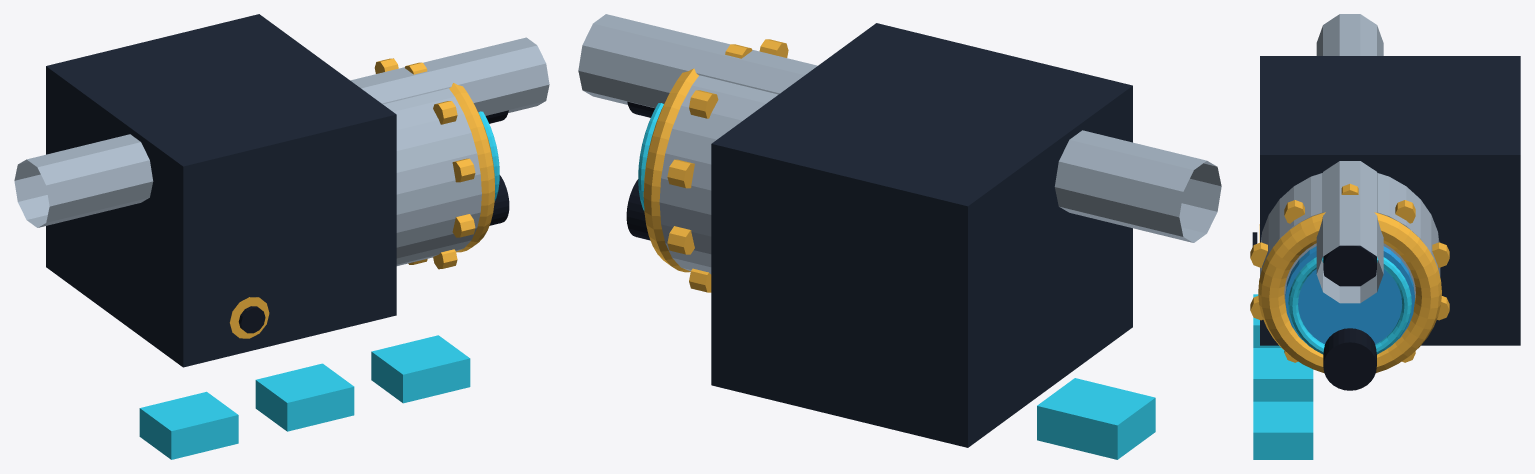
Rendered from 17_L85_StationApproachIlluminationRig.fbx.
3 views of the same model, side by side, from view 1: azimuth 30°, elevation 25°; view 2: azimuth 150°, elevation 25°; view 3: azimuth 270°, elevation 25° (orthographic). The views are drawn at different scales.
Parts seen in each view (by area): view 1: L85_StationApproachIlluminationRig_Part_0001, L85_StationApproachIlluminationRig, L85_StationApproachIlluminationRig_Part_0005, L85_StationApproachIlluminationRig_Part_0002, L85_StationApproachIlluminationRig_Part_0003, L85_StationApproachIlluminationRig_Part_0006, L85_StationApproachIlluminationRig_Part_0007, L85_StationApproachIlluminationRig_Part_0008; view 2: L85_StationApproachIlluminationRig_Part_0001, L85_StationApproachIlluminationRig, L85_StationApproachIlluminationRig_Part_0002, L85_StationApproachIlluminationRig_Part_0005, L85_StationApproachIlluminationRig_Part_0003, L85_StationApproachIlluminationRig_Part_0006; view 3: L85_StationApproachIlluminationRig_Part_0001, L85_StationApproachIlluminationRig_Part_0003, L85_StationApproachIlluminationRig_Part_0005, L85_StationApproachIlluminationRig, L85_StationApproachIlluminationRig_Part_0004, L85_StationApproachIlluminationRig_Part_0006, L85_StationApproachIlluminationRig_Part_0002.
Part boxes in pixels (x1,y1,x2,y2): L85_StationApproachIlluminationRig_Part_0001: [46, 14, 396, 367]; L85_StationApproachIlluminationRig: [14, 37, 549, 227]; L85_StationApproachIlluminationRig_Part_0005: [139, 111, 499, 459]; L85_StationApproachIlluminationRig_Part_0002: [383, 88, 481, 265]; L85_StationApproachIlluminationRig_Part_0003: [374, 58, 494, 269]; L85_StationApproachIlluminationRig_Part_0006: [485, 110, 509, 225]; L85_StationApproachIlluminationRig_Part_0007: [229, 297, 269, 338]; L85_StationApproachIlluminationRig_Part_0008: [238, 306, 265, 333]; L85_StationApproachIlluminationRig_Part_0001: [711, 23, 1132, 447]; L85_StationApproachIlluminationRig: [578, 14, 1221, 242]; L85_StationApproachIlluminationRig_Part_0002: [659, 75, 778, 274]; L85_StationApproachIlluminationRig_Part_0005: [638, 103, 1155, 459]; L85_StationApproachIlluminationRig_Part_0003: [643, 39, 788, 292]; L85_StationApproachIlluminationRig_Part_0006: [626, 101, 655, 240]; L85_StationApproachIlluminationRig_Part_0001: [1260, 56, 1520, 345]; L85_StationApproachIlluminationRig_Part_0003: [1250, 183, 1449, 373]; L85_StationApproachIlluminationRig_Part_0005: [1253, 257, 1411, 459]; L85_StationApproachIlluminationRig: [1316, 14, 1383, 303]; L85_StationApproachIlluminationRig_Part_0004: [1285, 246, 1414, 347]; L85_StationApproachIlluminationRig_Part_0006: [1323, 245, 1376, 390]; L85_StationApproachIlluminationRig_Part_0002: [1260, 173, 1440, 300].
Bounding box in the file's own units: 164 × 90 × 80.83.
